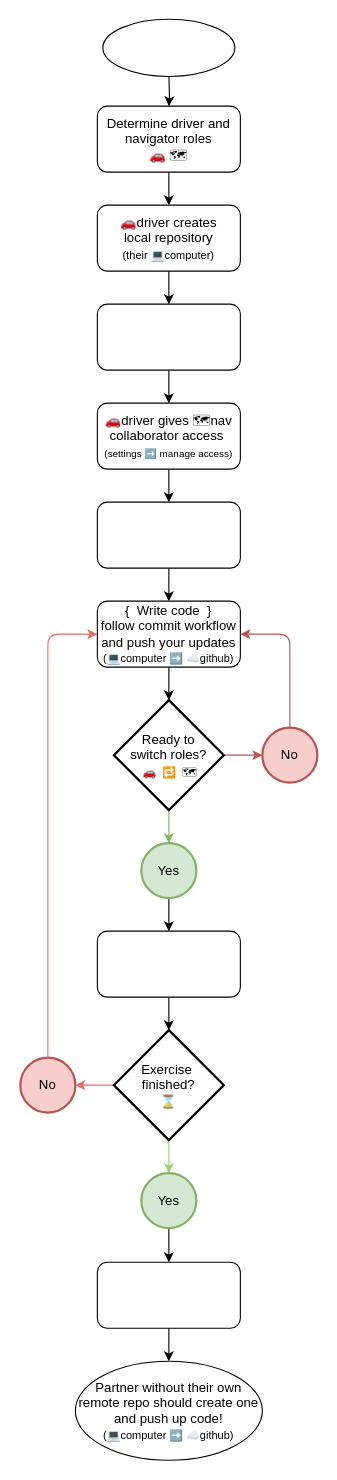
Image size: 337x1480. Some labels were removed from this diagram. Here are the shapes that lost their labels. From the top down, the centre of each, then its label:
At (x=168, y=47): "New project 📁".
At (x=168, y=336): "🚗driver creates remote repository (☁️github)".
At (x=168, y=534): "🗺nav clones 🚗driver remote repository (☁️github ➡️ their 💻computer)".
At (x=168, y=963): "🗺nav pulls down latest code from remote repo (☁️github ➡️💻computer )".
At (x=168, y=1294): "Last person as 🗺nav pulls down latest code (☁️github ➡️💻computer )".
